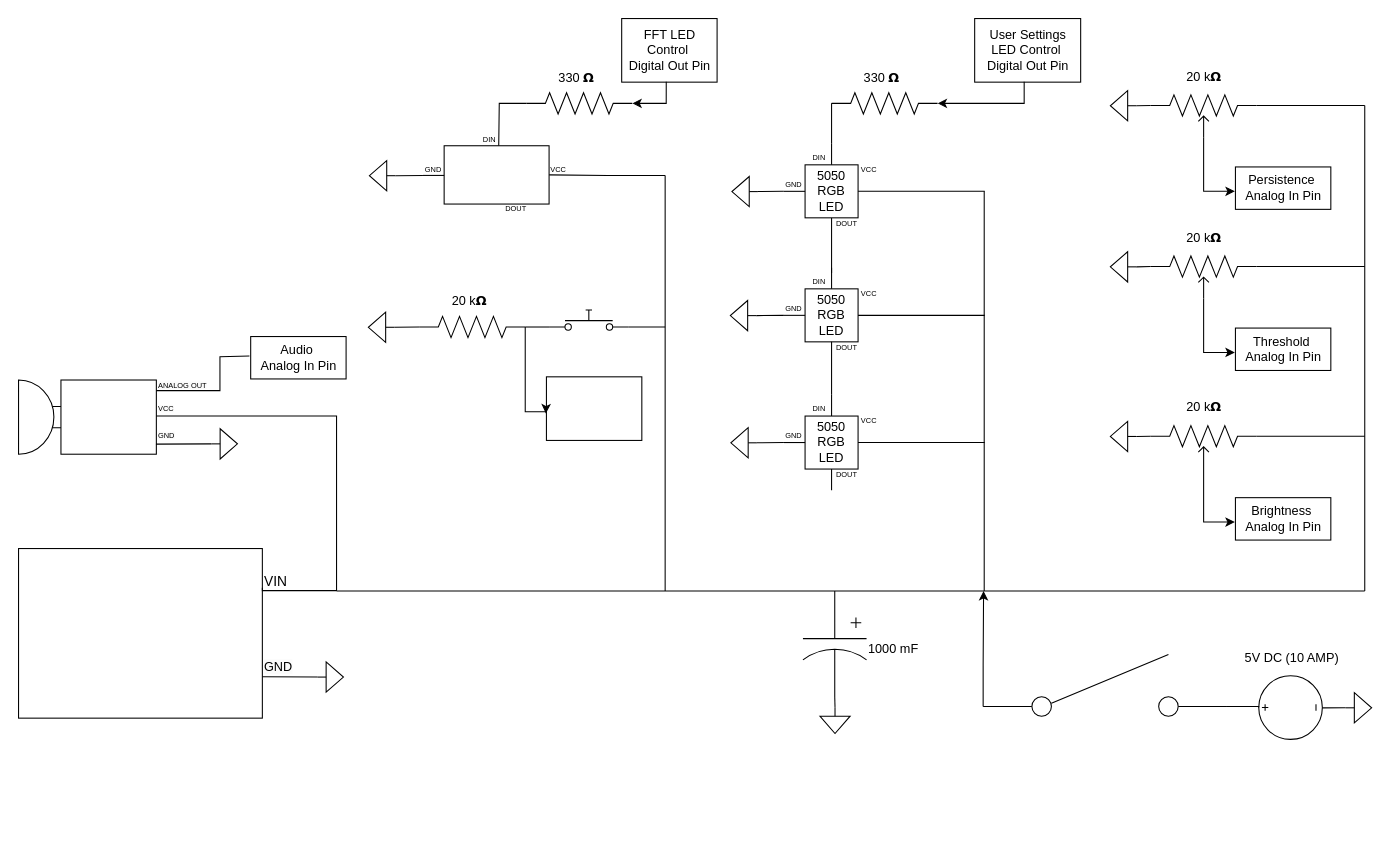
The diagram is 1391 pixels wide and 853 high, and some of its shapes have lost their labels. Each missing label, with the box of its shape:
Arduino Uno Rev 4 Wifi: (17, 547, 262, 718)
Colorscale Select Digital In Pin: (545, 376, 642, 440)
KY-030 High Sensitivity Microphone: (60, 379, 156, 454)
WS2812b RGB LED Array (5050SMD): (443, 145, 549, 204)
